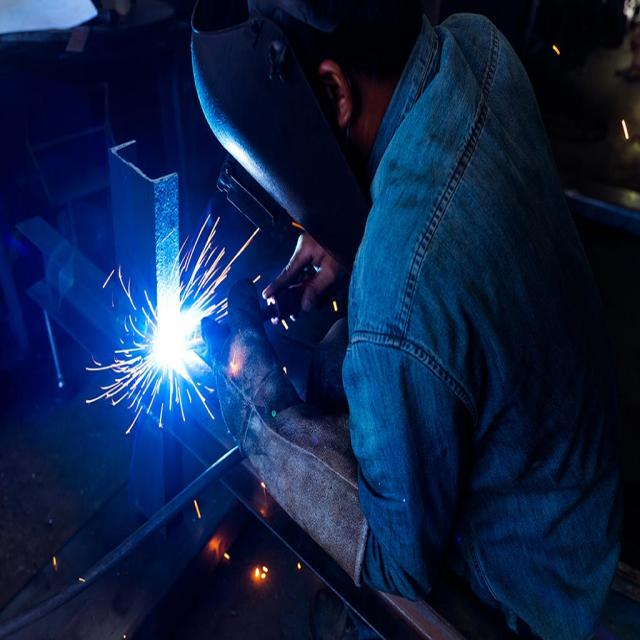welding: (156, 313, 193, 372)
